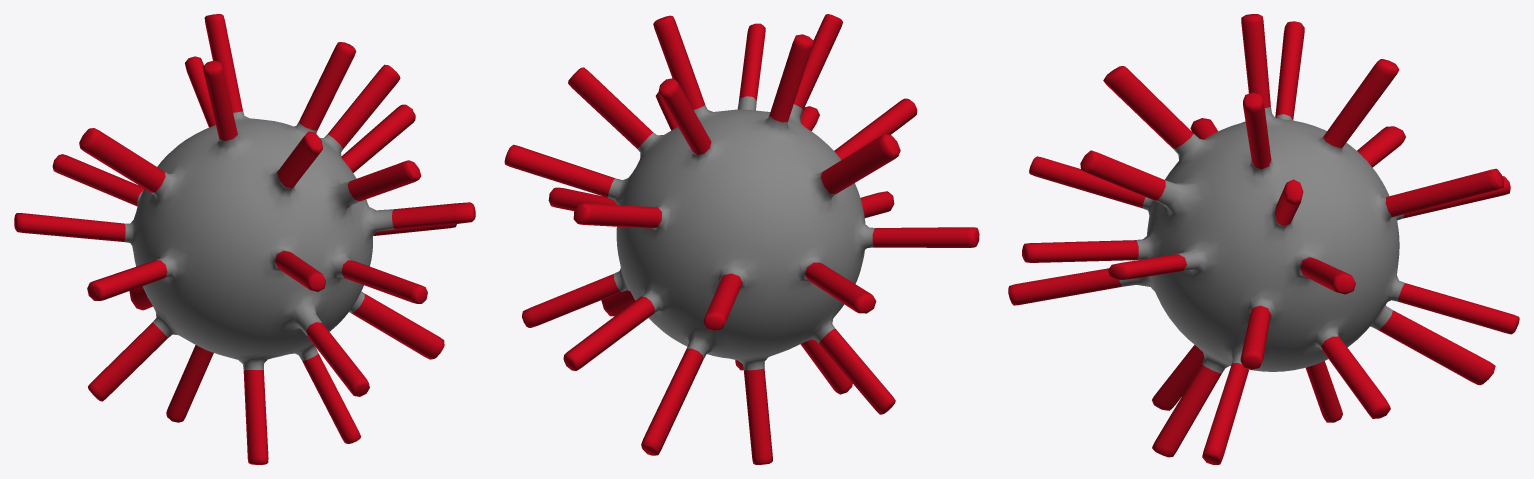
The model's file is coronavirus.fbx.
3 views of the same model, side by side, from view 1: azimuth 30°, elevation 25°; view 2: azimuth 150°, elevation 25°; view 3: azimuth 270°, elevation 25° (orthographic). The views are drawn at different scales.
Parts seen in each view (by area): view 1: coronavirus; view 2: coronavirus; view 3: coronavirus.
Part boxes in pixels (box(x1,y1,x2,y2)): coronavirus: box(14, 14, 475, 464); coronavirus: box(504, 14, 979, 464); coronavirus: box(1008, 14, 1519, 464).
Size of the model in its own units: 369 by 350 by 400.
